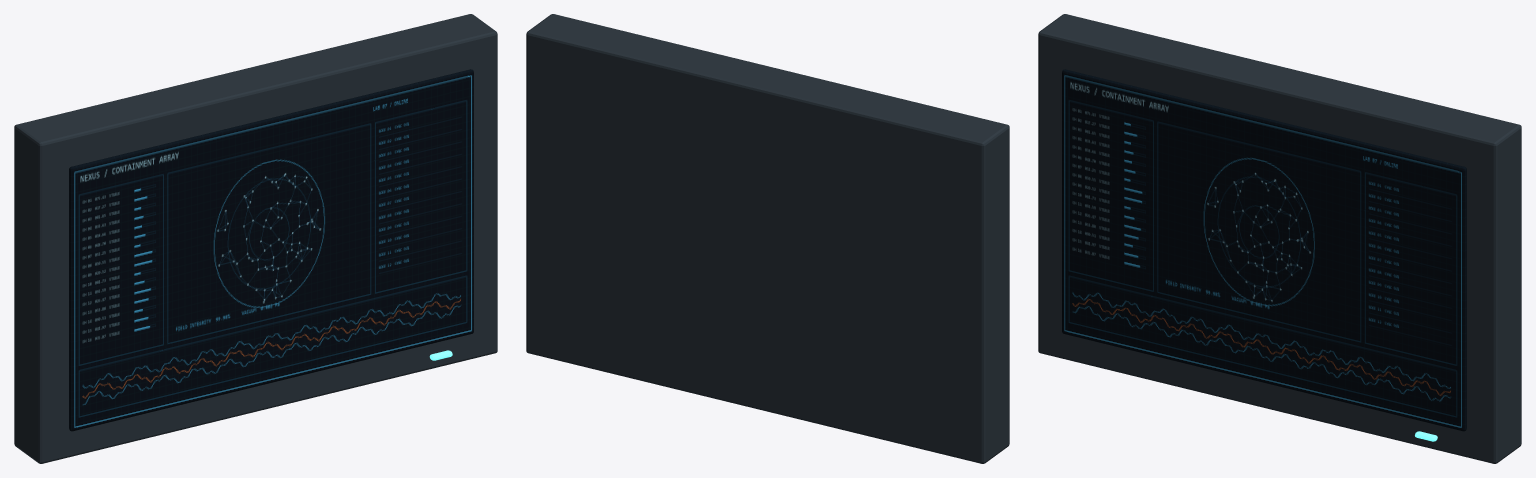
File: SM_Lab_ReactorTerminal__Display_00.fbx
3 renders of one model, left to right at view 1: azimuth 30°, elevation 25°; view 2: azimuth 150°, elevation 25°; view 3: azimuth 330°, elevation 25°, orthographic.
Visible parts, largest first — view 1: SM_Lab_ReactorTerminal__Display_00; view 2: SM_Lab_ReactorTerminal__Display_00; view 3: SM_Lab_ReactorTerminal__Display_00.
Part boxes in pixels (x1=…): SM_Lab_ReactorTerminal__Display_00: x1=14, y1=14, x2=497, y2=463; SM_Lab_ReactorTerminal__Display_00: x1=526, y1=14, x2=1009, y2=463; SM_Lab_ReactorTerminal__Display_00: x1=1038, y1=14, x2=1521, y2=463.
Size of the model in its own units: 54.5 by 7.2 by 36.5.
